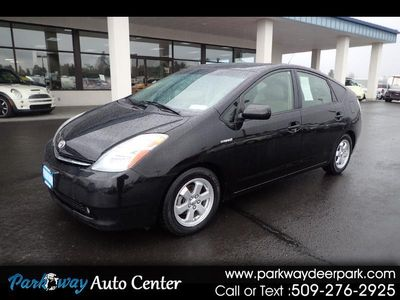Toyota Prius: (40, 60, 363, 238)
